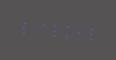eight: (17, 16, 27, 37)
four: (72, 21, 82, 42)
nine: (83, 22, 93, 43)
one: (28, 17, 38, 38)
seven: (39, 18, 49, 39)
three: (50, 19, 60, 40)
zero: (61, 20, 71, 41)
